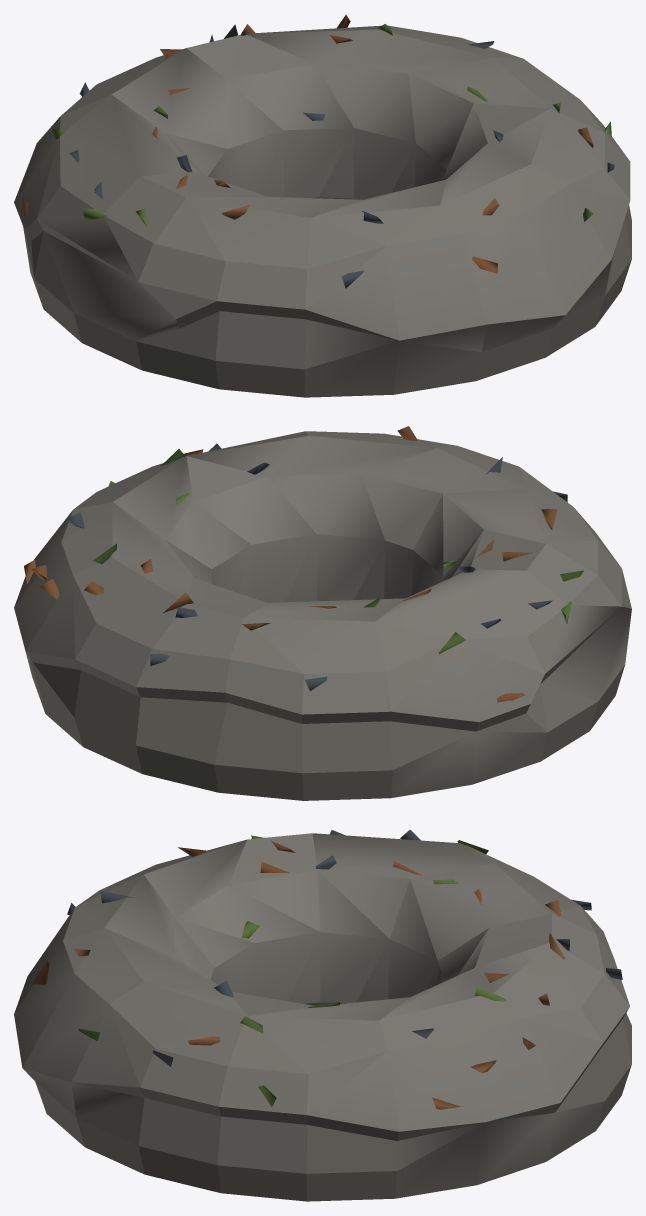
Rendered from cc0-donut-lod1.glb.
The picture shows the model from 3 angles, top to bottom: view 1: azimuth 30°, elevation 25°; view 2: azimuth 150°, elevation 25°; view 3: azimuth 270°, elevation 25°; orthographic projection.
Visible parts, largest first — view 1: part_0; view 2: part_0; view 3: part_0.
Part boxes in pixels (x1,y1,x2,y2): part_0: (14, 14, 631, 397); part_0: (14, 426, 631, 800); part_0: (14, 830, 631, 1201).
Bounding box in the file's own units: 0.8591 × 0.2914 × 0.8698.
